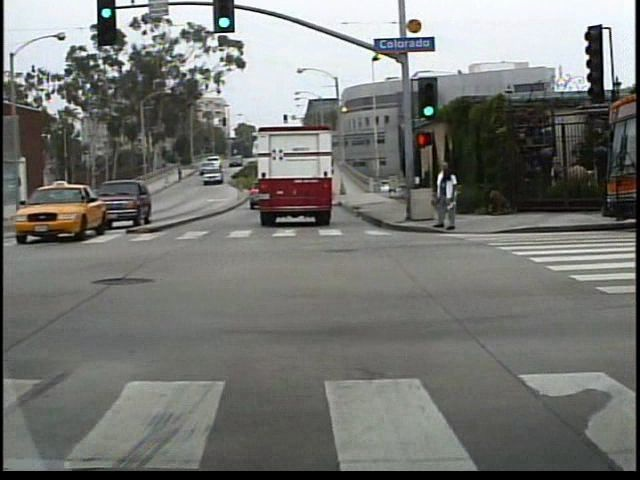person: (435, 158, 462, 233)
